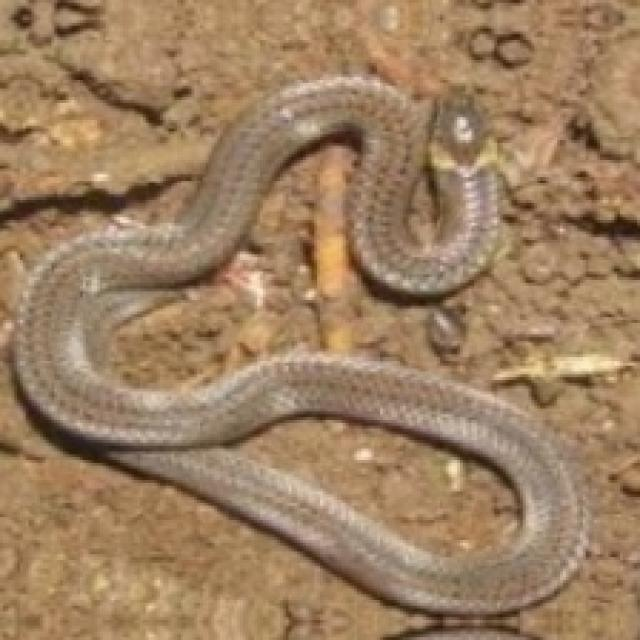gervais worm snake: (14, 74, 586, 614), (223, 414, 520, 557)
